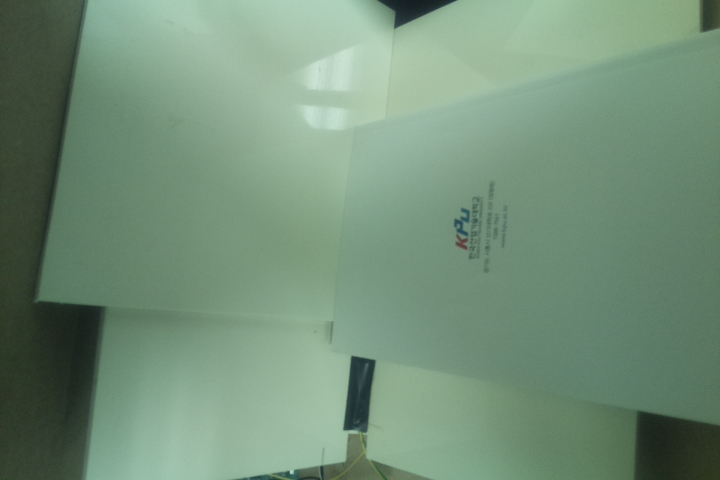book: (324, 25, 719, 434)
